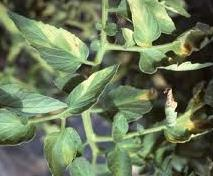Tomato mold leaf: (7, 9, 92, 73), (67, 58, 124, 115), (102, 84, 165, 124), (44, 123, 84, 176), (0, 107, 41, 145), (125, 0, 162, 42)
